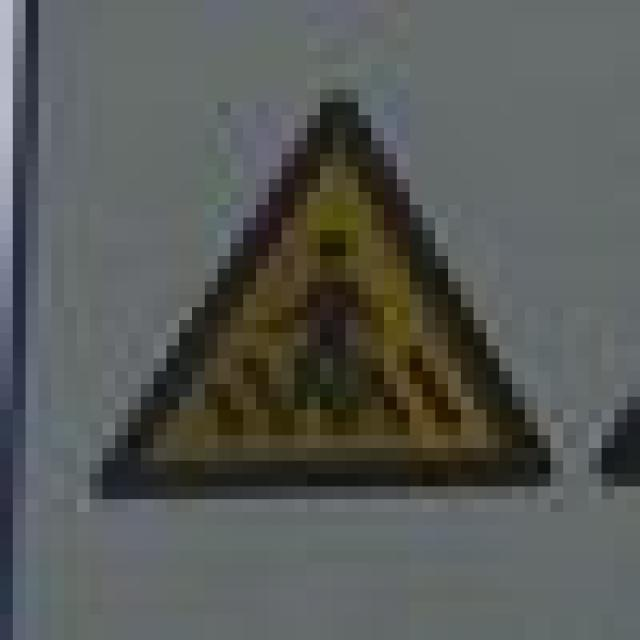pass_either_side: (77, 90, 550, 473)
